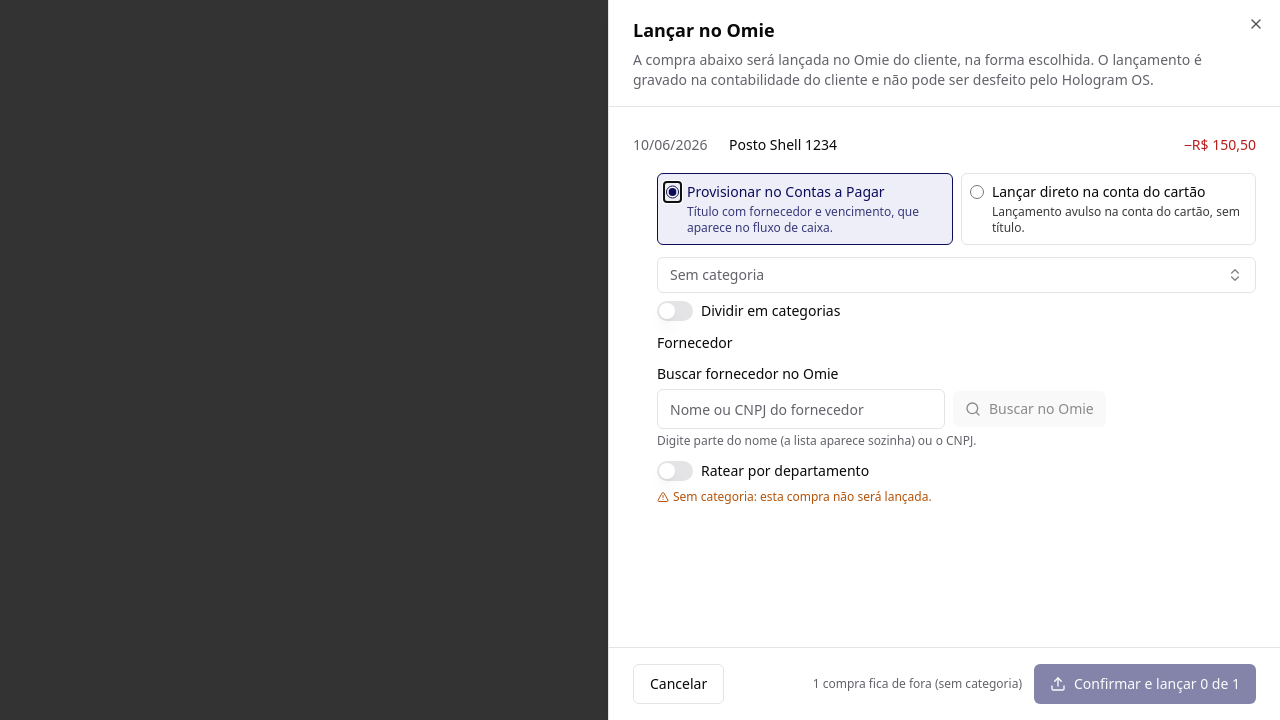
Test: Fornecedor › CNPJ inválido nem sai para o servidor
The width and height of the screenshot is (1280, 720).
Type "12.345.678/0001-96" into the field named "Buscar fornecedor no Omie — 10/06/2026".
click(801, 409); type("12.345.678/0001-96")  # box [657,389,945,429]
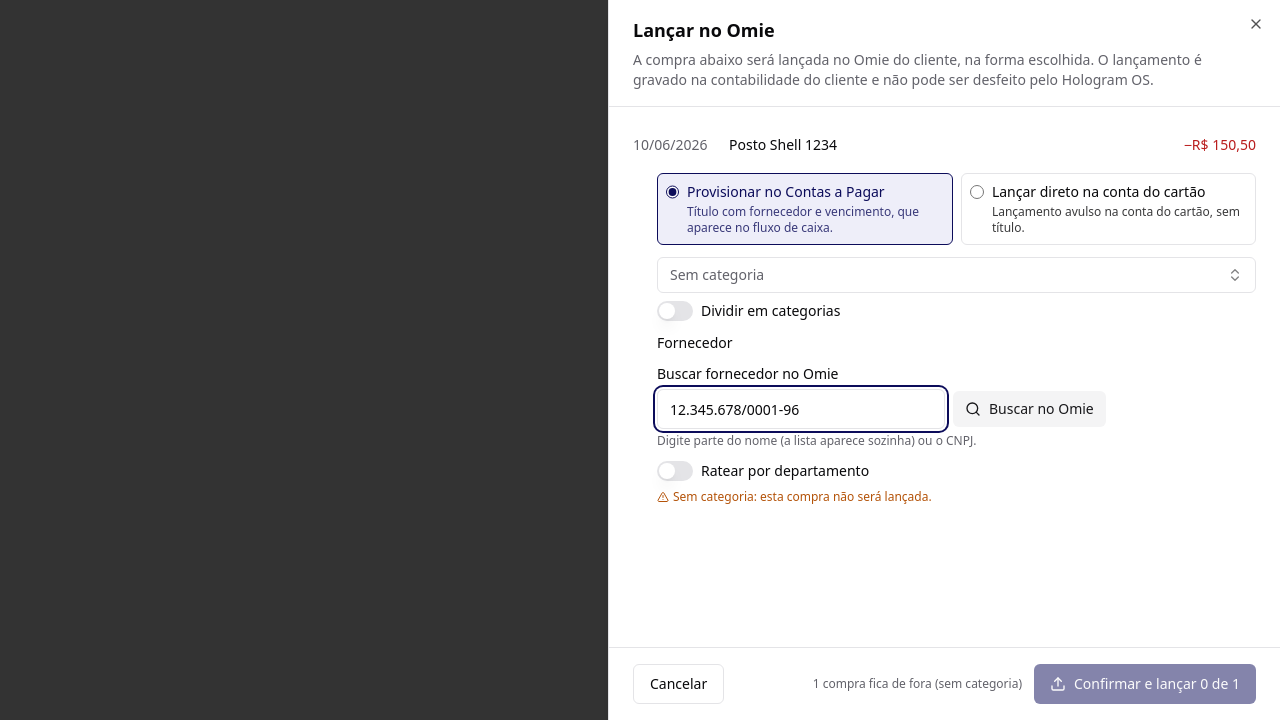
Click the button "Buscar no Omie".
click(1029, 409)  # box [953,391,1106,427]
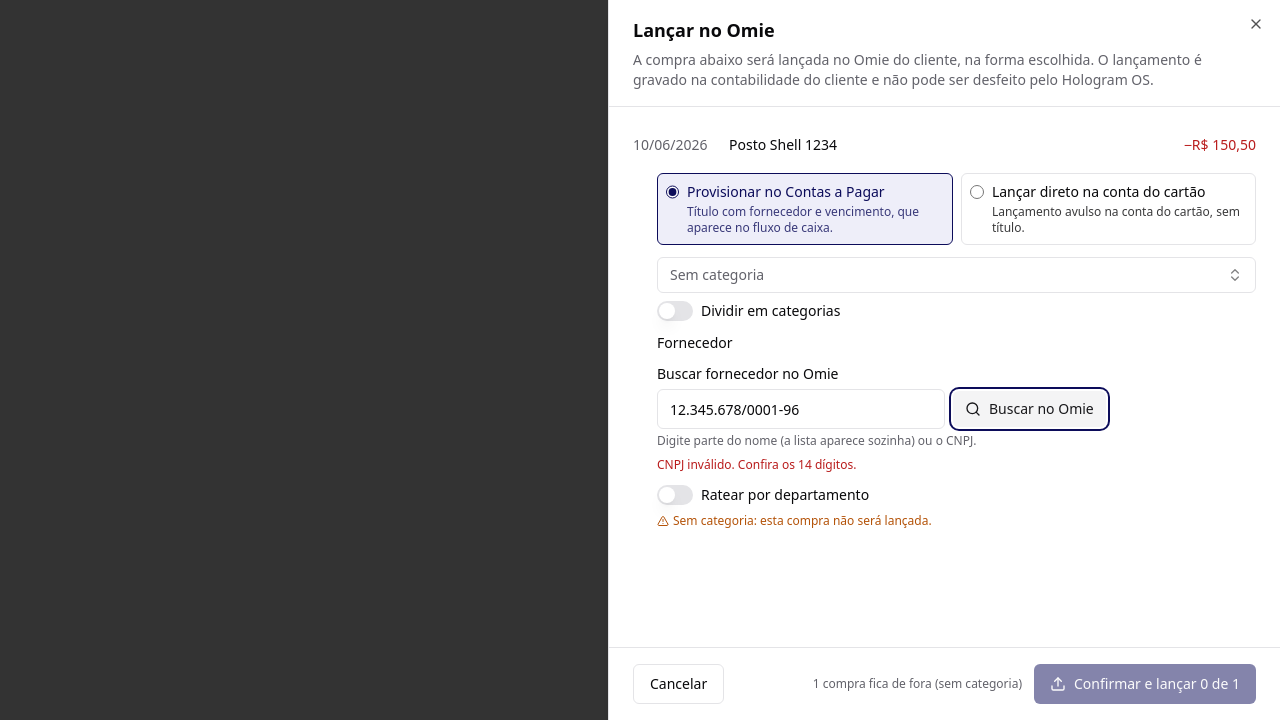
expect the text "CNPJ inválido. Confira os 14 dígitos." is shown: met, box [657,456,856,473]
